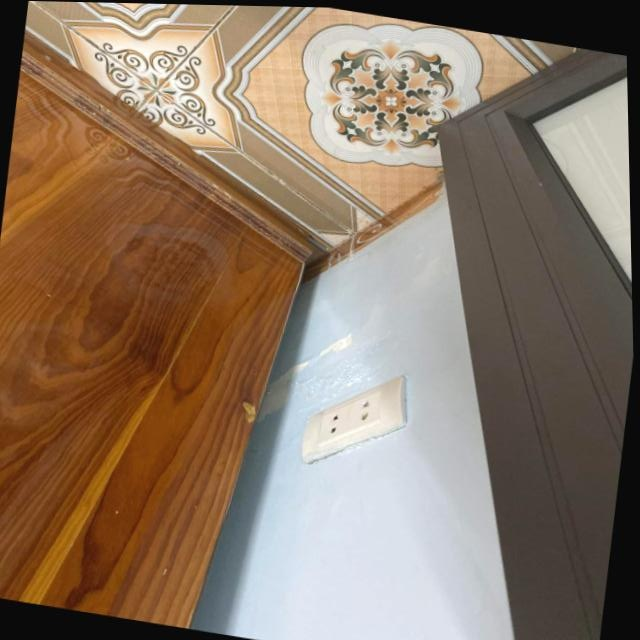outlet: (297, 361, 414, 480)
